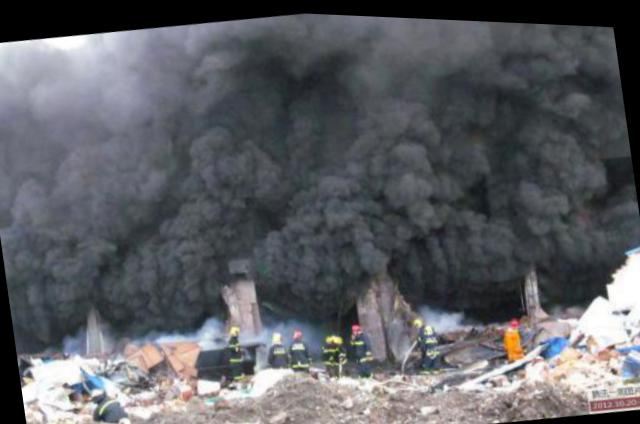smoke: (132, 5, 353, 337), (313, 11, 519, 310), (0, 39, 177, 359), (475, 17, 639, 303)
